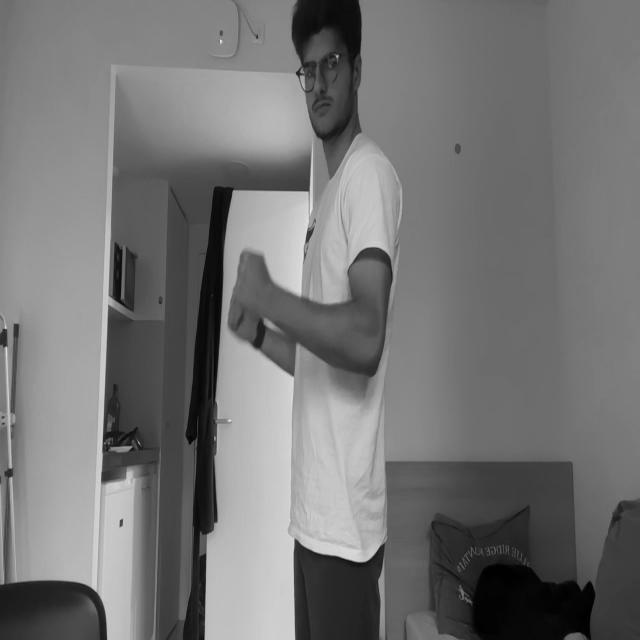elbow: (350, 301, 384, 379)
hand: (235, 244, 270, 315), (226, 280, 257, 346)
shoulder: (346, 160, 397, 241)
